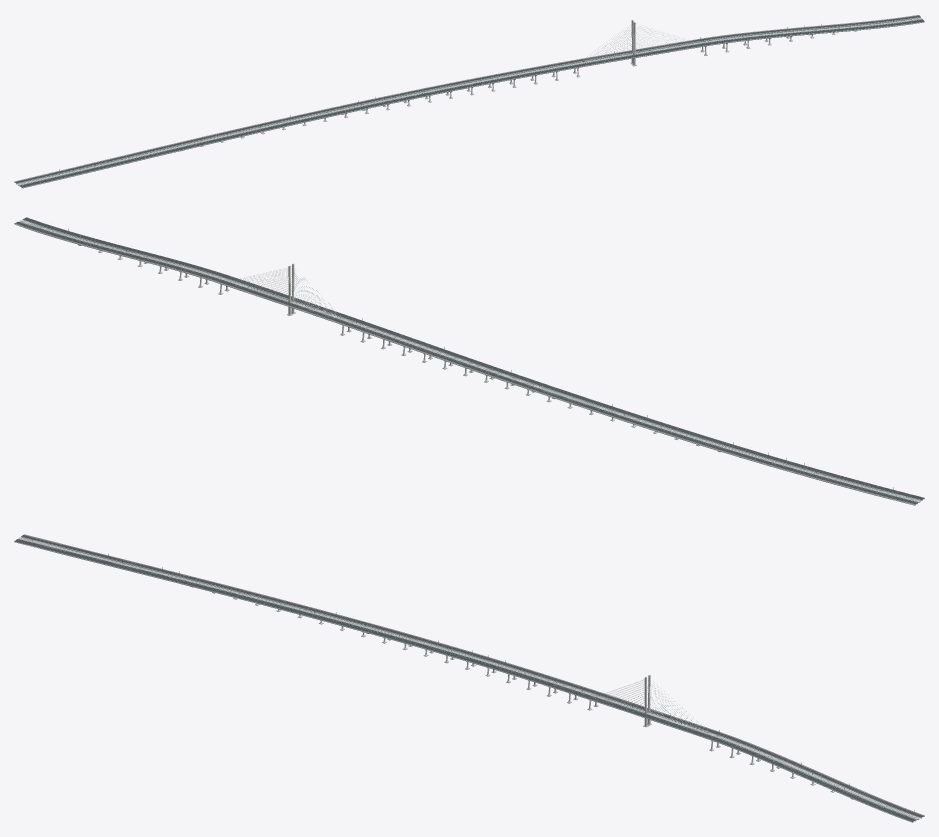
The model's file is samuel-de-champlain-near.glb.
The picture shows the model from 3 angles, top to bottom: view 1: azimuth 30°, elevation 25°; view 2: azimuth 150°, elevation 25°; view 3: azimuth 330°, elevation 25°; orthographic projection. The views are drawn at different scales.
Visible parts, largest first — view 1: span-0-concrete, span-0-asphalt, span-3-concrete, span-0-steel, span-3-asphalt, span-2-concrete, span-1-concrete, span-2-asphalt, span-1-asphalt, span-3-steel, span-2-cables, span-0-path; view 2: span-0-concrete, span-0-asphalt, span-3-concrete, span-0-steel, span-3-asphalt, span-2-concrete, span-1-concrete, span-2-asphalt, span-1-asphalt, span-2-cables, span-3-steel; view 3: span-0-concrete, span-0-asphalt, span-3-concrete, span-0-steel, span-3-asphalt, span-2-concrete, span-1-concrete, span-2-asphalt, span-1-asphalt, span-2-cables, span-3-steel.
Part boxes in pixels (x1,y1,x2,y2): span-0-concrete: (14, 81, 464, 188); span-0-asphalt: (15, 82, 464, 187); span-3-concrete: (700, 15, 924, 55); span-0-steel: (14, 84, 464, 188); span-3-asphalt: (701, 15, 924, 44); span-2-concrete: (573, 20, 706, 77); span-1-concrete: (459, 60, 578, 95); span-2-asphalt: (573, 39, 706, 66); span-1-asphalt: (459, 61, 577, 87); span-3-steel: (703, 17, 923, 45); span-2-cables: (582, 23, 693, 62); span-0-path: (15, 81, 458, 181); span-0-concrete: (450, 355, 924, 505); span-0-asphalt: (452, 356, 924, 504); span-3-concrete: (14, 217, 229, 294); span-0-steel: (451, 358, 924, 505); span-3-asphalt: (15, 217, 229, 281); span-2-concrete: (218, 263, 352, 335); span-1-concrete: (341, 317, 461, 369); span-2-asphalt: (220, 276, 352, 323); span-1-asphalt: (342, 317, 461, 361); span-2-cables: (230, 266, 342, 317); span-3-steel: (15, 220, 226, 283); span-0-concrete: (14, 534, 488, 669); span-0-asphalt: (14, 535, 487, 663); span-3-concrete: (709, 732, 924, 822); span-0-steel: (14, 537, 484, 664); span-3-asphalt: (709, 733, 923, 821); span-2-concrete: (586, 675, 720, 738); span-1-concrete: (477, 657, 597, 703); span-2-asphalt: (586, 692, 719, 738); span-1-asphalt: (477, 658, 596, 697); span-2-cables: (597, 678, 708, 732); span-3-steel: (709, 735, 924, 822).
Bounding box in the file's own units: 3450 × 171 × 450.
